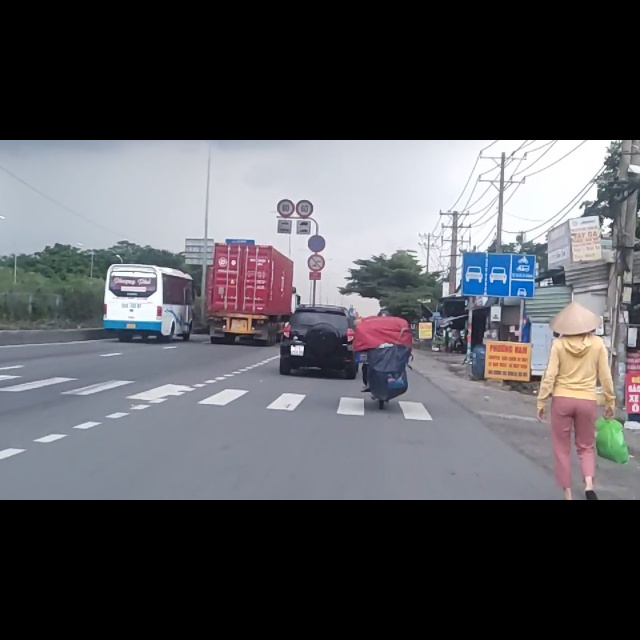bien_cam: (462, 199, 535, 282), (307, 168, 327, 200), (277, 104, 295, 137), (297, 105, 313, 136), (308, 204, 325, 233)
